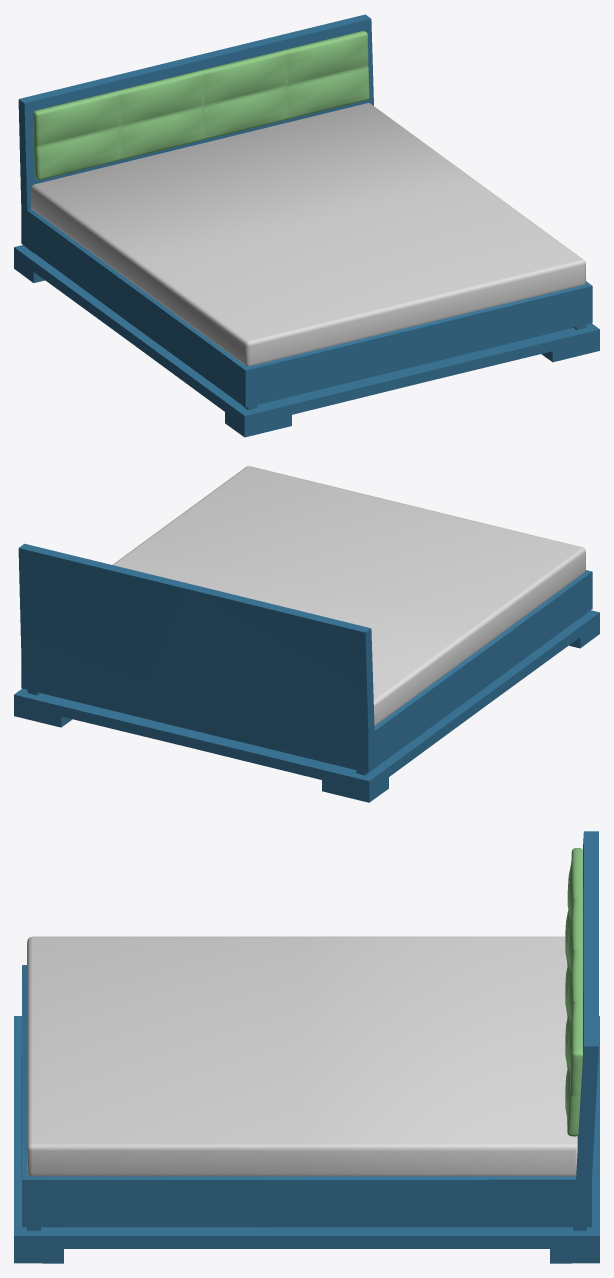
The model's file is MZBBD03C.FBX.
3 renders of one model, top to bottom at view 1: azimuth 30°, elevation 25°; view 2: azimuth 150°, elevation 25°; view 3: azimuth 270°, elevation 25°, orthographic. The views are drawn at different scales.
Parts seen in each view (by area): view 1: MZBBD03C; view 2: MZBBD03C; view 3: MZBBD03C.
Boxes of the visible parts, x1,y1,x2,y2 form: MZBBD03C: [14, 14, 599, 437]; MZBBD03C: [14, 466, 599, 802]; MZBBD03C: [14, 831, 599, 1263].
Size of the model in its own units: 188 by 212 by 85.55.
